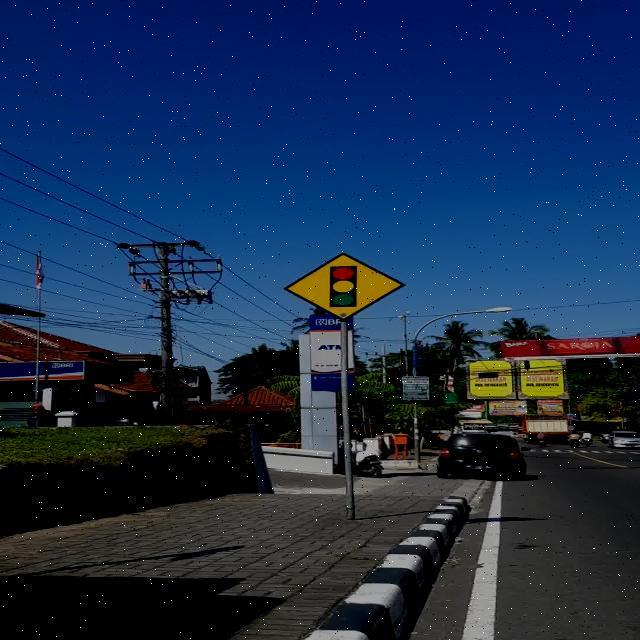Lampu Lalu Lintas: (285, 253, 405, 321)
